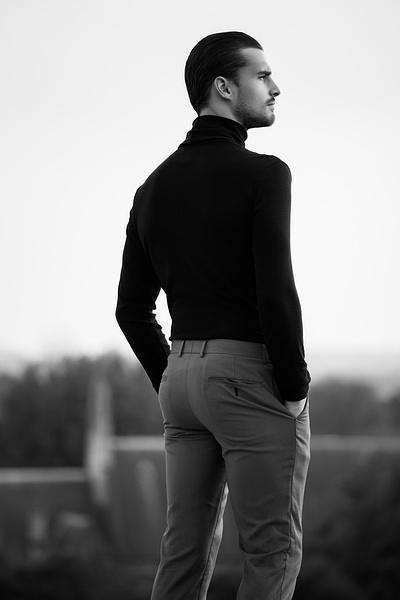people: (114, 22, 346, 589)
